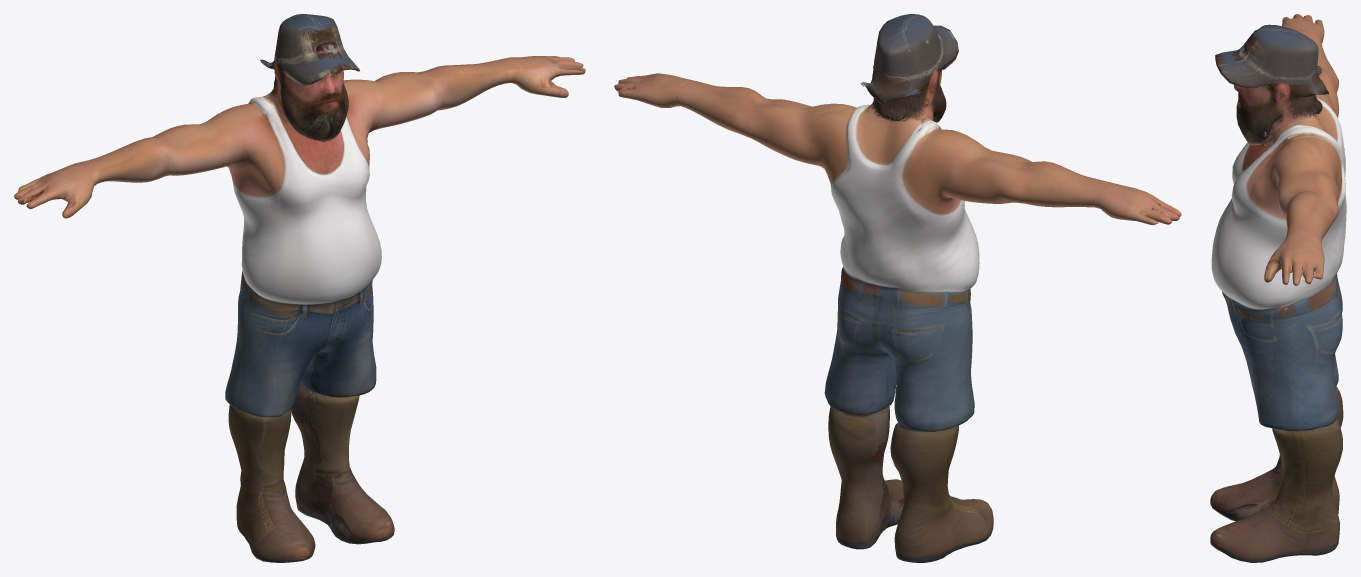
The model's file is A_redneck_drunk_guy__0513211447_texture.fbx.
3 views of the same model, side by side, from view 1: azimuth 30°, elevation 25°; view 2: azimuth 150°, elevation 25°; view 3: azimuth 270°, elevation 25° (orthographic). The views are drawn at different scales.
Visible parts, largest first — view 1: input; view 2: input; view 3: input.
Boxes of the visible parts, bbox=[...] form: input: bbox=[14, 14, 585, 562]; input: bbox=[614, 14, 1181, 562]; input: bbox=[1210, 14, 1346, 562].
Bounding box in the file's own units: 199 × 174 × 42.8.
Materials: 1 (1 with a texture image).
